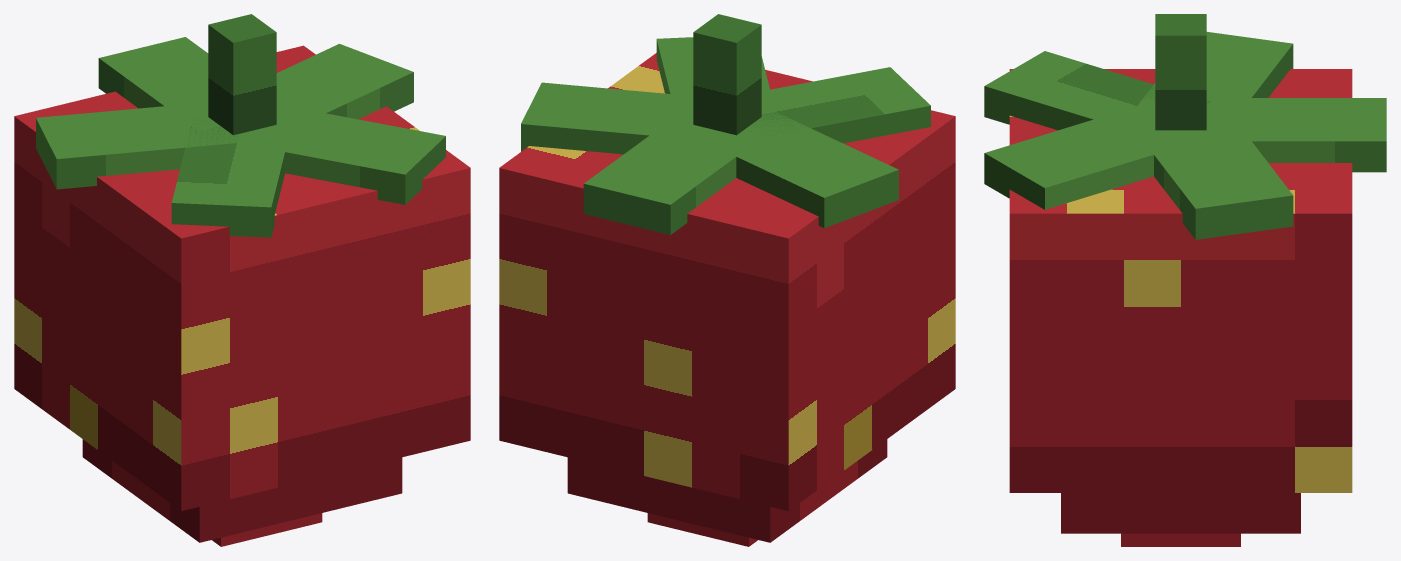
The model's file is strawberry.glb.
3 views of the same model, side by side, from view 1: azimuth 30°, elevation 25°; view 2: azimuth 150°, elevation 25°; view 3: azimuth 270°, elevation 25° (orthographic). The views are drawn at different scales.
Visible parts, largest first — view 1: strawberry; view 2: strawberry; view 3: strawberry.
Boxes of the visible parts, x1,y1,x2,y2 form: strawberry: [14, 14, 470, 546]; strawberry: [499, 14, 955, 546]; strawberry: [984, 14, 1386, 546].
Bounding box in the file's own units: 0.1234 × 0.16 × 0.1174.
2 materials, 2 textured.
